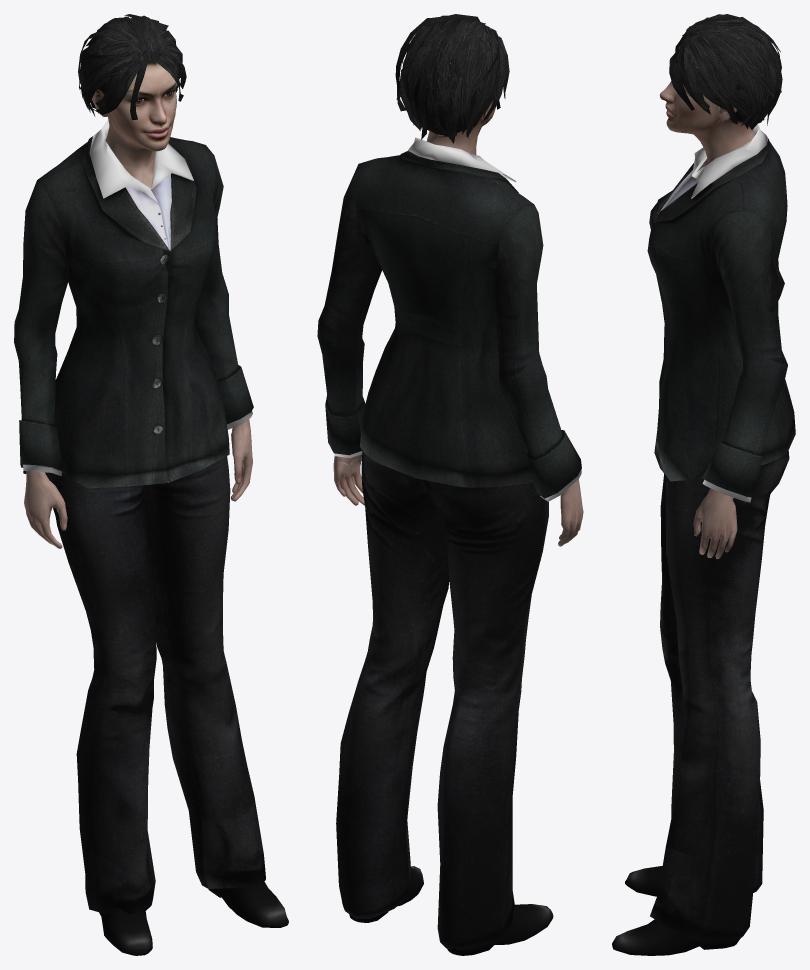
Rendered from Nicole_Bonnet.obj.
3 renders of one model, left to right at view 1: azimuth 30°, elevation 25°; view 2: azimuth 150°, elevation 25°; view 3: azimuth 270°, elevation 25°, orthographic. The views are drawn at different scales.
Size of the model in its own units: 0.9367 by 3.4 by 0.6399.
Materials: 3 (3 with a texture image).
